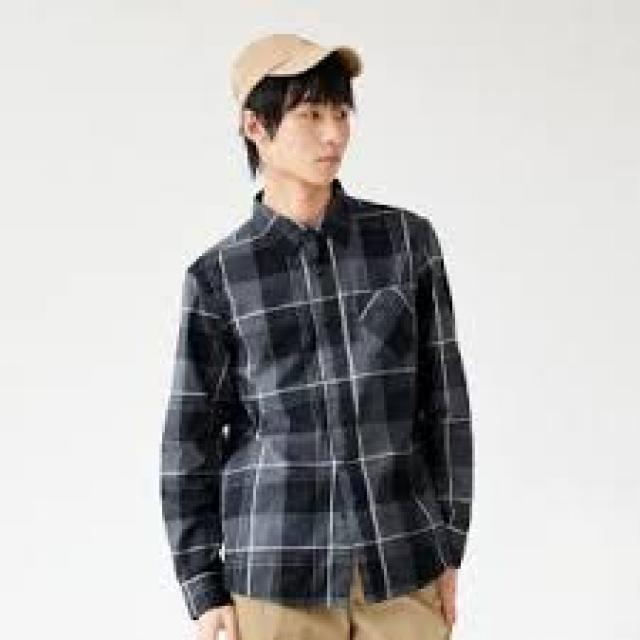plaid: (157, 177, 472, 604)
